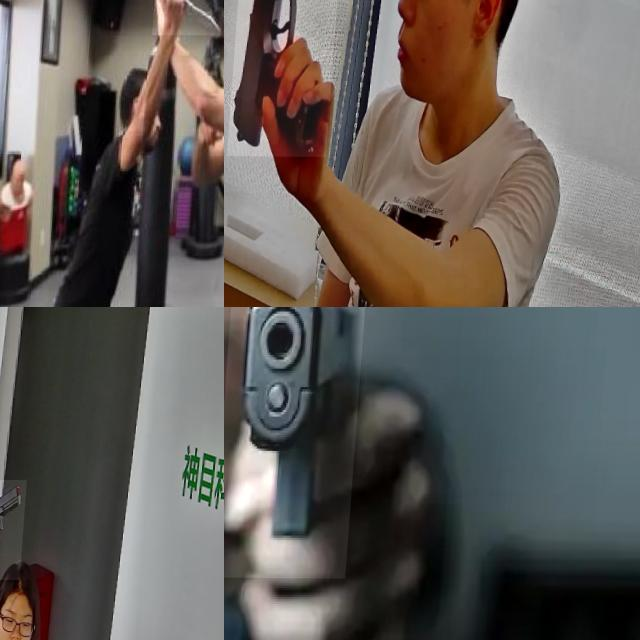-: (153, 0, 224, 34)
gun-knife-thesis - v11 Yolov5 augmented: (224, 307, 371, 578), (232, 0, 348, 156), (0, 479, 32, 579)
